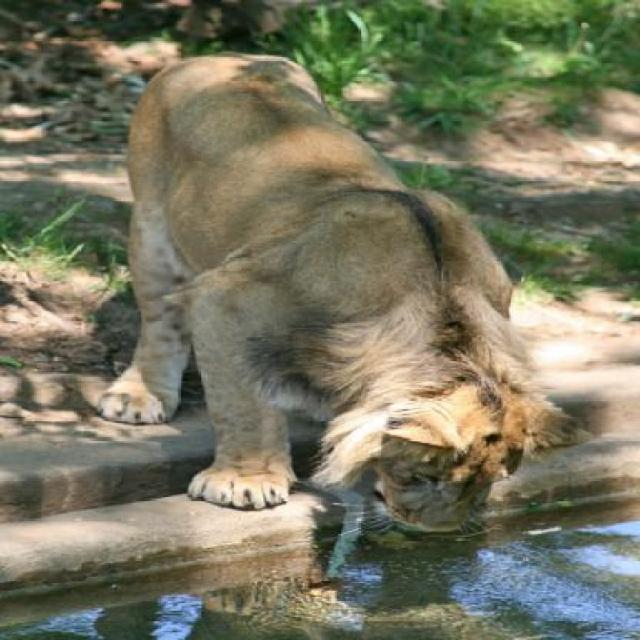Lion: (52, 38, 586, 584)
